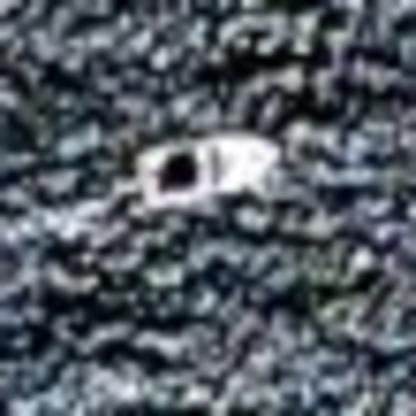ship: (124, 124, 288, 212)
